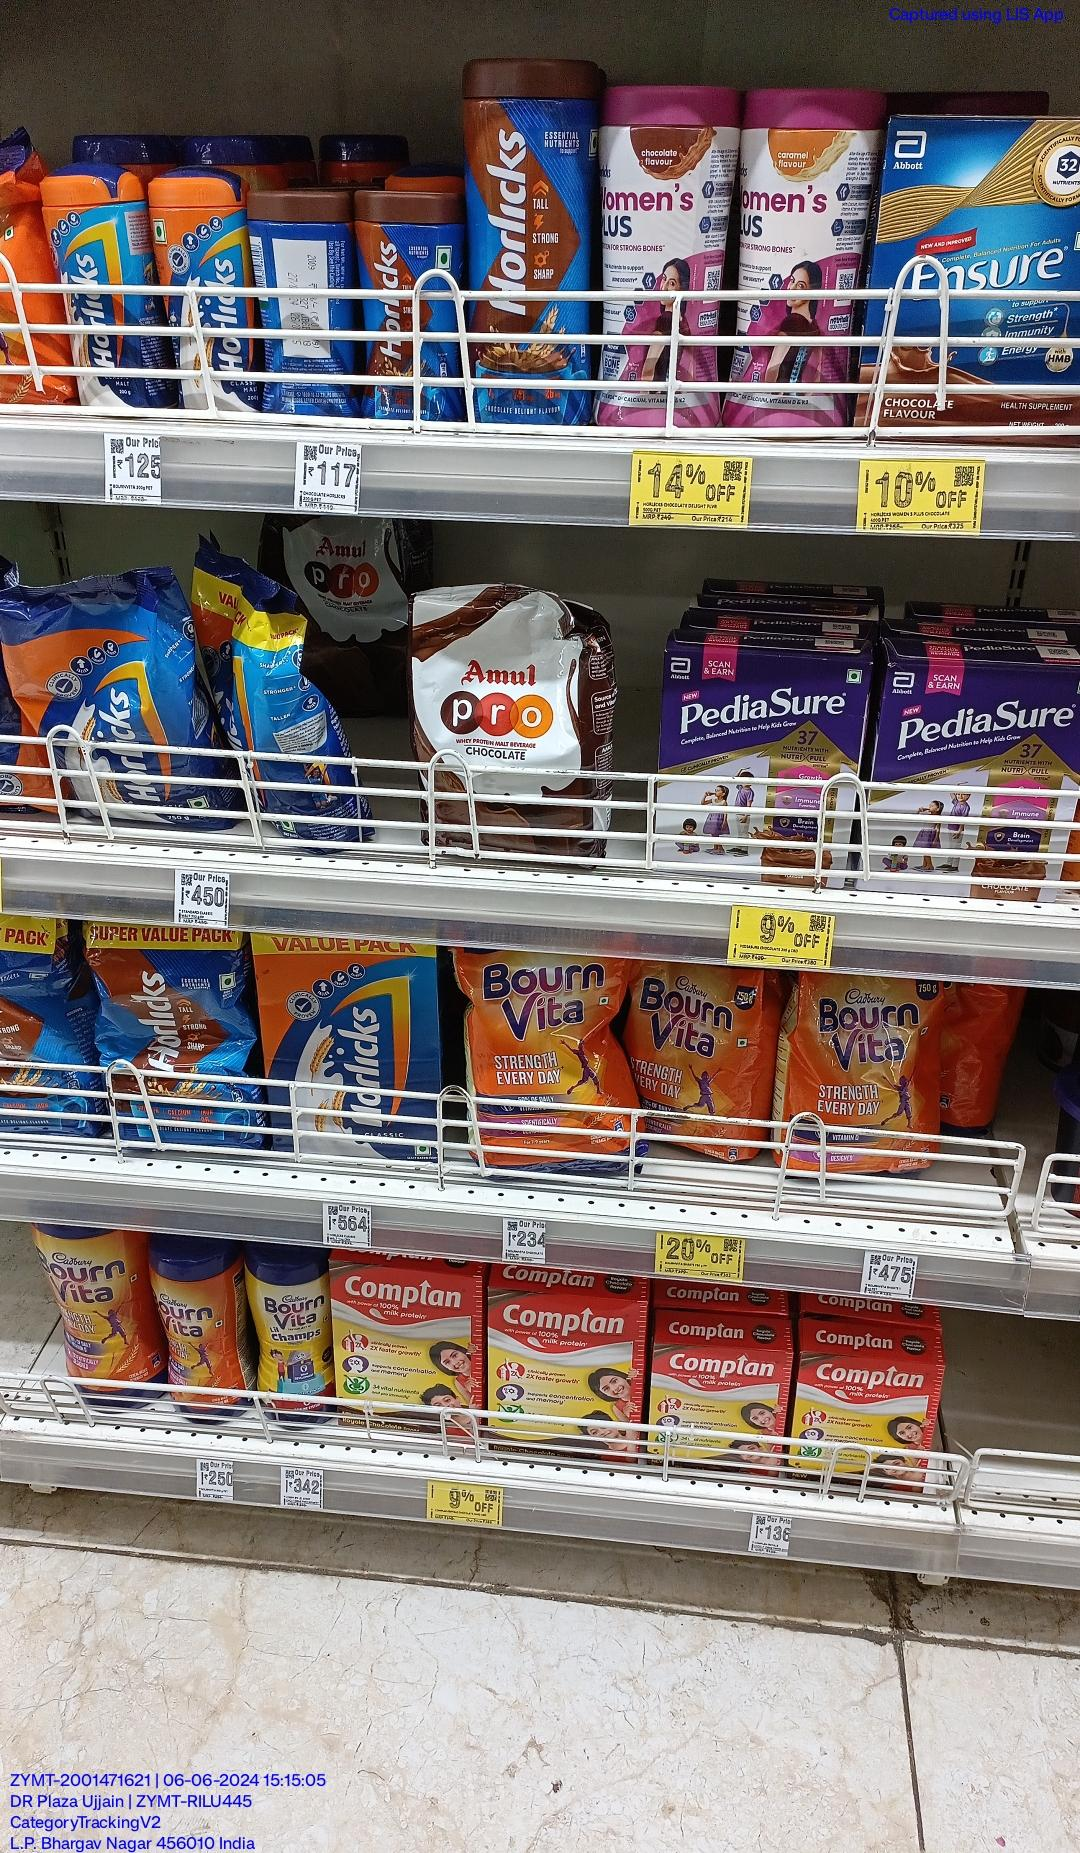COMPLAN_CHOCOLATE_200_GMS_PACK: (797, 1353, 937, 1501), (651, 1345, 788, 1483)
COMPLAN_CHOCOLATE_500_GMS_PACK: (485, 1285, 645, 1464), (333, 1257, 482, 1442)
HORLICK_CHOCOLATE_1_KG_JAR: (463, 48, 597, 421)
HORLICK_CHOCOLATE_200_G_JAR: (355, 184, 460, 418)
HORLICK_CLASSIC_MALT_200_G_JAR: (53, 153, 153, 414), (159, 162, 256, 410)
